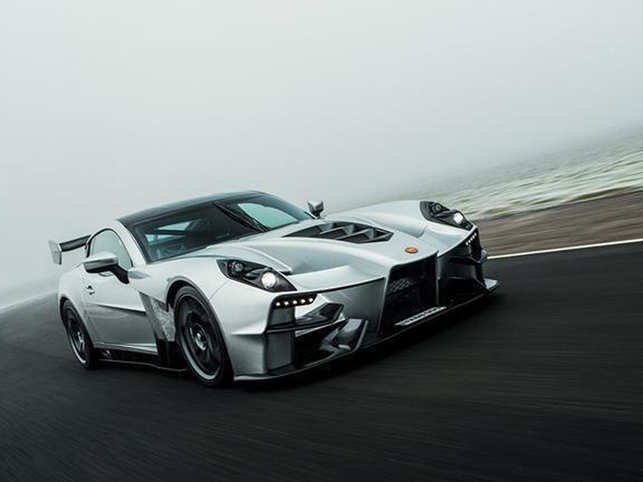car: (51, 185, 496, 384)
